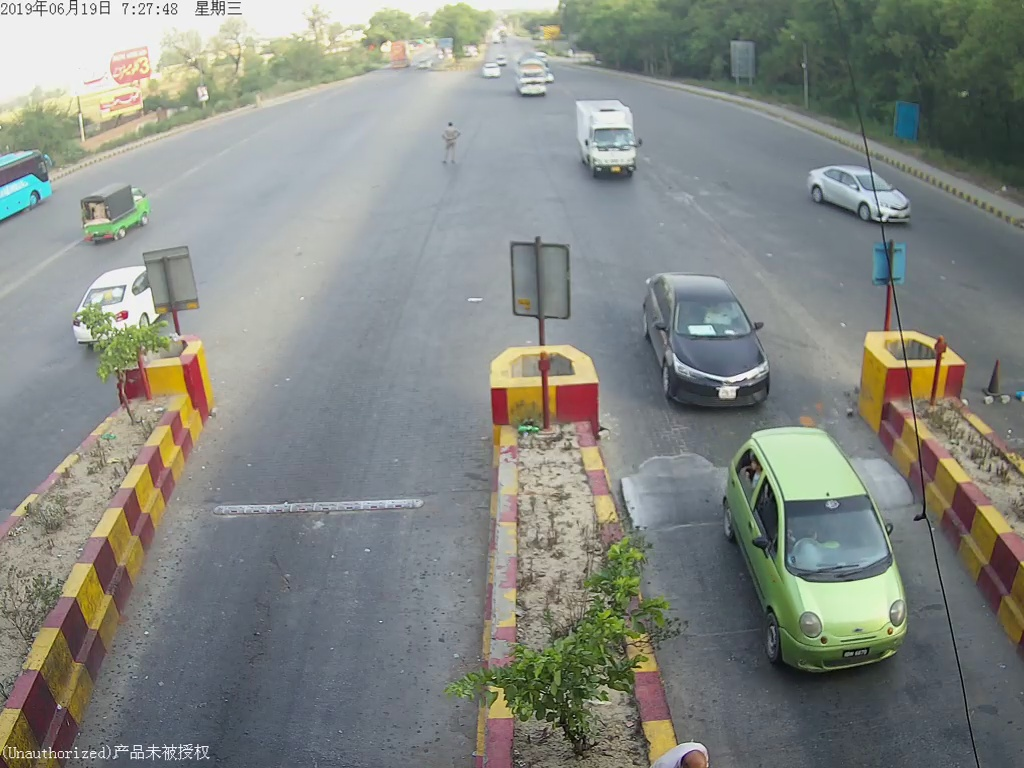Cat-1: (721, 426, 919, 676), (631, 253, 791, 416)
Cat-4: (574, 100, 648, 195)
